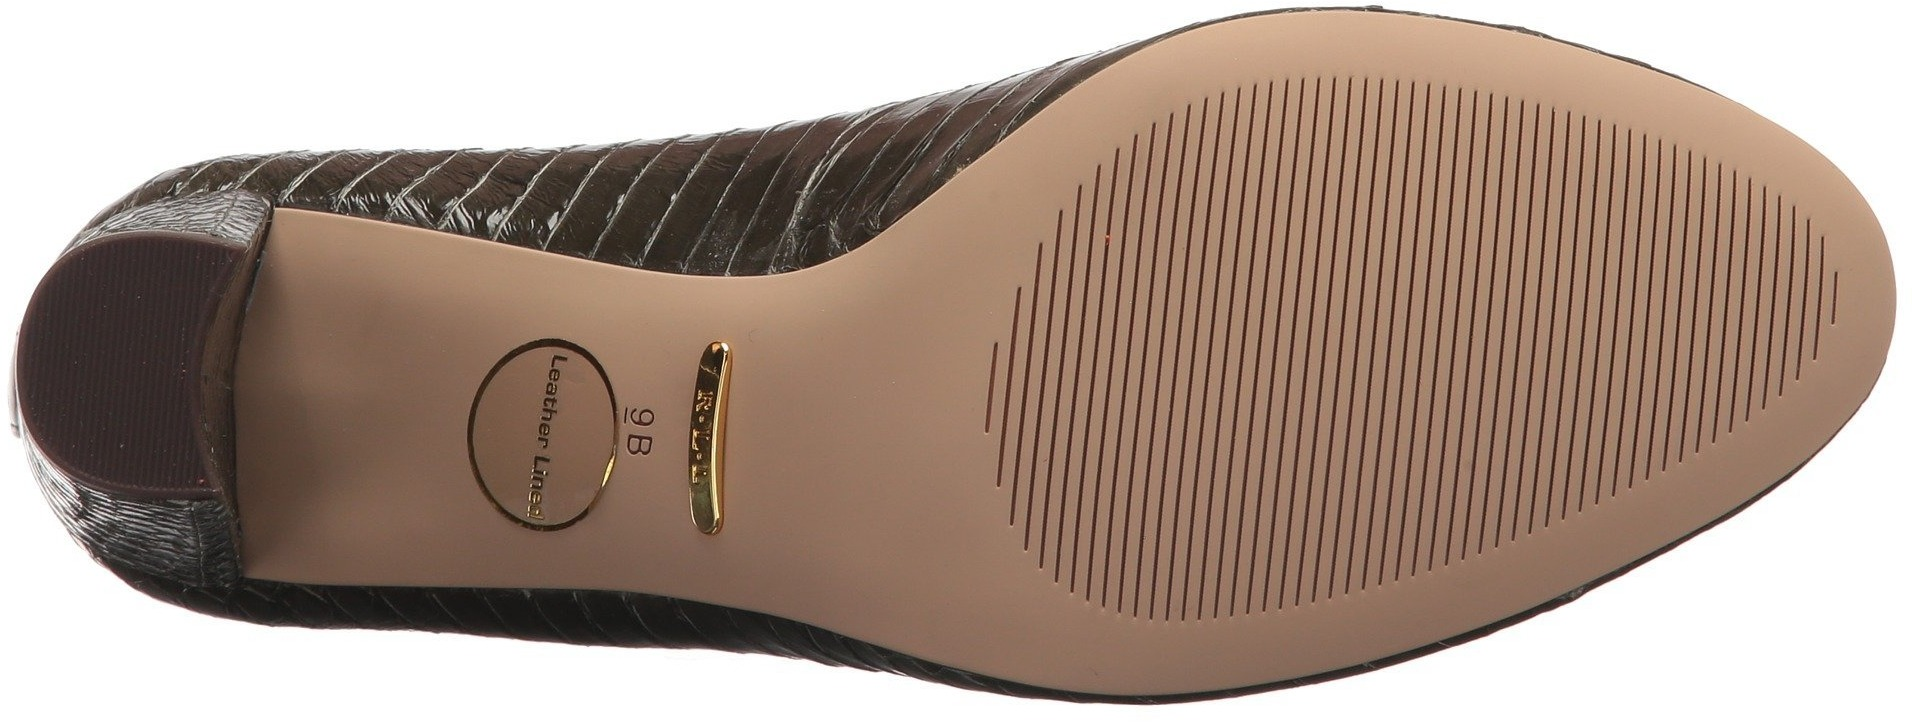other: (1302, 130, 1684, 526), (1001, 254, 1293, 573), (41, 291, 195, 448)
